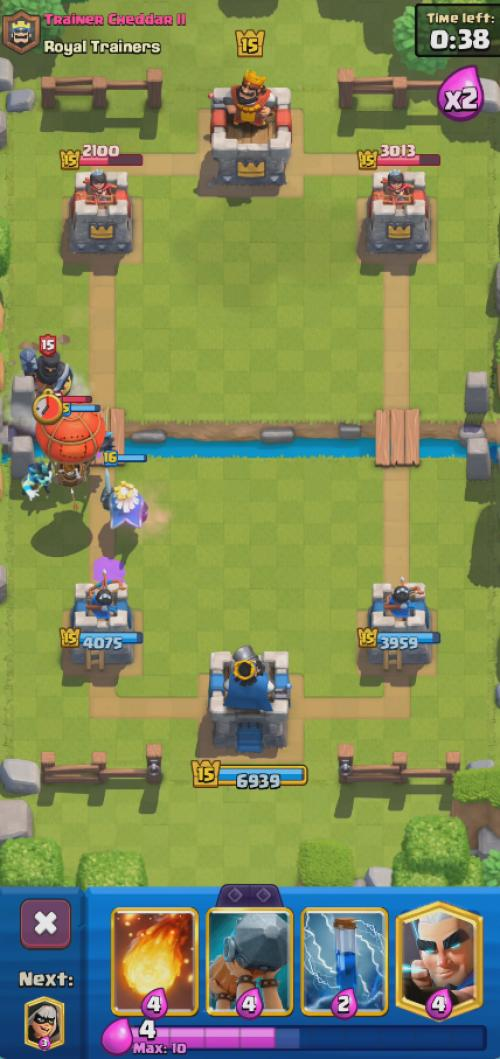Enemy-Balloon: (36, 404, 106, 488)
Enemy-DarkPrince-Shield: (21, 349, 72, 394)
Enemy-KingTower: (210, 71, 291, 187)
Enemy-PrincessTower: (69, 169, 132, 253), (367, 169, 429, 251)
